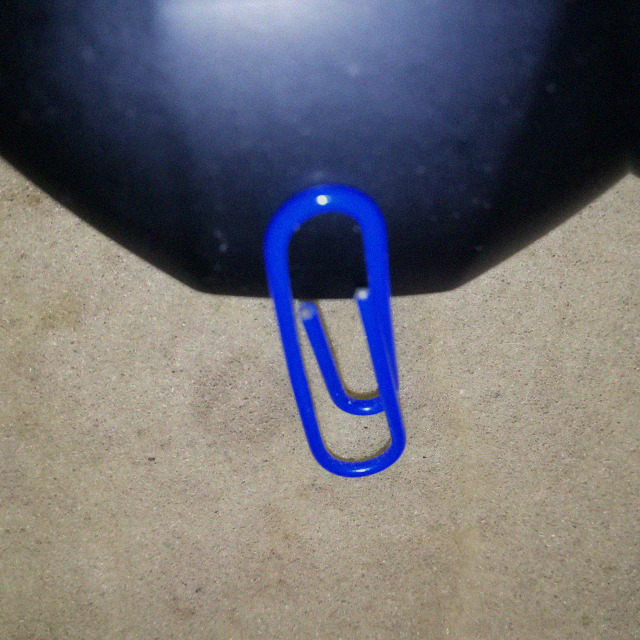pin: (264, 186, 409, 490)
